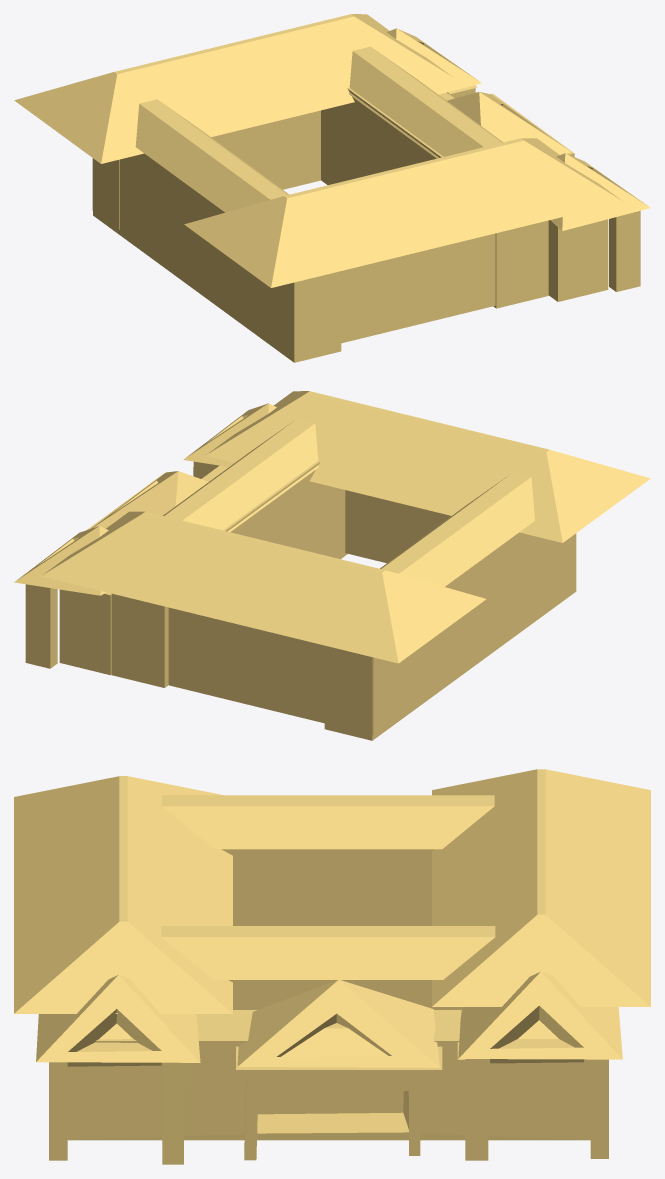
The model's file is AdminNav.glb.
3 views of the same model, one above another, from view 1: azimuth 30°, elevation 25°; view 2: azimuth 150°, elevation 25°; view 3: azimuth 270°, elevation 25° (orthographic). The views are drawn at different scales.
Visible parts, largest first — view 1: Cube.012, Cube.016, Cube.010, Cube.011, Cube.009, Cube.015, Cube.014, Cube.001, Cube, Cube.004, Cube.003, Cube.008 (+1 smaller); view 2: Cube.016, Cube.012, Cube.011, Cube.001, Cube.009, Cube.015, Cube.014, Cube.010, Cube, Cube.002, Cube.004, Cube.007 (+1 smaller); view 3: Cube.016, Cube.012, Cube, Cube.015, Cube.014, Cube.011, Cube.004, Cube.007, Cube.008, Cube.005, Cube.009, Cube.002 (+1 smaller).
Boxes of the visible parts, left/top/right/bottom form: Cube.012: left=184, top=138, right=623, bottom=287; Cube.016: left=14, top=14, right=453, bottom=163; Cube.010: left=268, top=233, right=495, bottom=354; Cube.011: left=93, top=153, right=341, bottom=362; Cube.009: left=321, top=88, right=548, bottom=308; Cube.015: left=135, top=85, right=477, bottom=212; Cube.014: left=349, top=46, right=503, bottom=158; Cube.001: left=92, top=110, right=320, bottom=229; Cube: left=439, top=92, right=608, bottom=301; Cube.004: left=447, top=92, right=571, bottom=154; Cube.003: left=609, top=210, right=640, bottom=291; Cube.008: left=550, top=153, right=650, bottom=230; Cube.016: left=41, top=511, right=486, bottom=663; Cube.012: left=205, top=391, right=650, bottom=542; Cube.011: left=324, top=532, right=576, bottom=740; Cube.001: left=168, top=607, right=399, bottom=734; Cube.009: left=111, top=461, right=347, bottom=687; Cube.015: left=193, top=461, right=534, bottom=586; Cube.014: left=163, top=419, right=318, bottom=531; Cube.010: left=345, top=490, right=576, bottom=602; Cube: left=59, top=465, right=228, bottom=675; Cube.002: left=25, top=584, right=57, bottom=668; Cube.004: left=91, top=471, right=208, bottom=528; Cube.007: left=14, top=526, right=108, bottom=595; Cube.016: left=432, top=769, right=650, bottom=1006; Cube.012: left=14, top=776, right=232, bottom=1013; Cube: left=67, top=1010, right=590, bottom=1160; Cube.015: left=162, top=795, right=494, bottom=1164; Cube.014: left=161, top=926, right=495, bottom=979; Cube.011: left=222, top=849, right=434, bottom=925; Cube.004: left=237, top=979, right=439, bottom=1067; Cube.007: left=458, top=971, right=622, bottom=1063; Cube.008: left=36, top=974, right=200, bottom=1066; Cube.005: left=236, top=1023, right=442, bottom=1080; Cube.009: left=228, top=980, right=464, bottom=1009; Cube.002: left=590, top=1059, right=608, bottom=1158.
Size of what is drawn, in the model's own units: 15.84 by 5.87 by 17.54.
